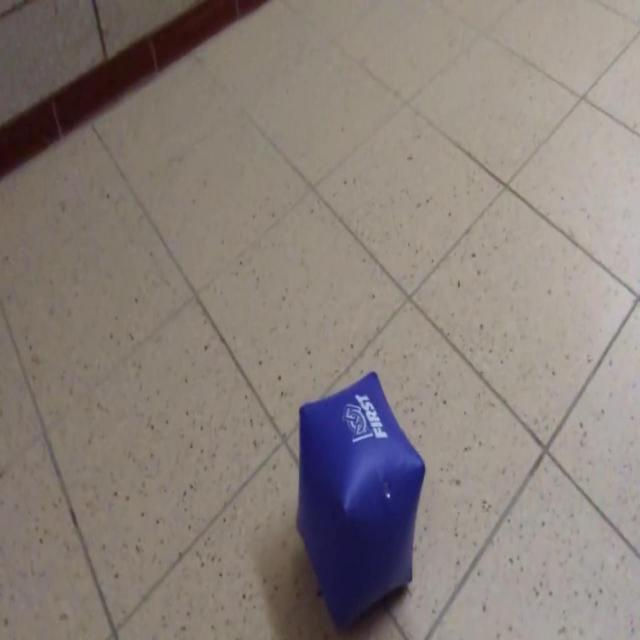frc_cube: (294, 367, 428, 638)
